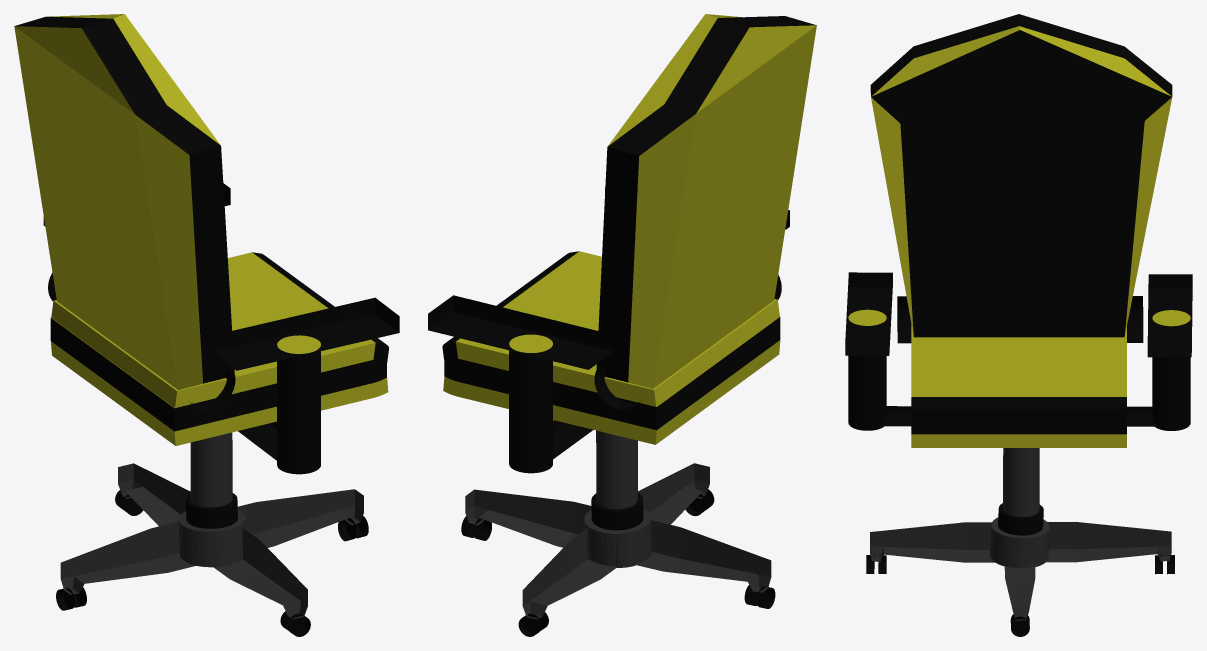
Rendered from chair.glb.
The picture shows the model from 3 angles, left to right: view 1: azimuth 30°, elevation 25°; view 2: azimuth 150°, elevation 25°; view 3: azimuth 270°, elevation 25°; orthographic projection. The views are drawn at different scales.
Parts seen in each view (by area): view 1: Cube; view 2: Cube; view 3: Cube.
Boxes of the visible parts, x1,y1,x2,y2 form: Cube: (14, 14, 399, 636); Cube: (428, 14, 816, 636); Cube: (845, 14, 1192, 636).
Bounding box in the file's own units: 0.931 × 1.7 × 1.06.
